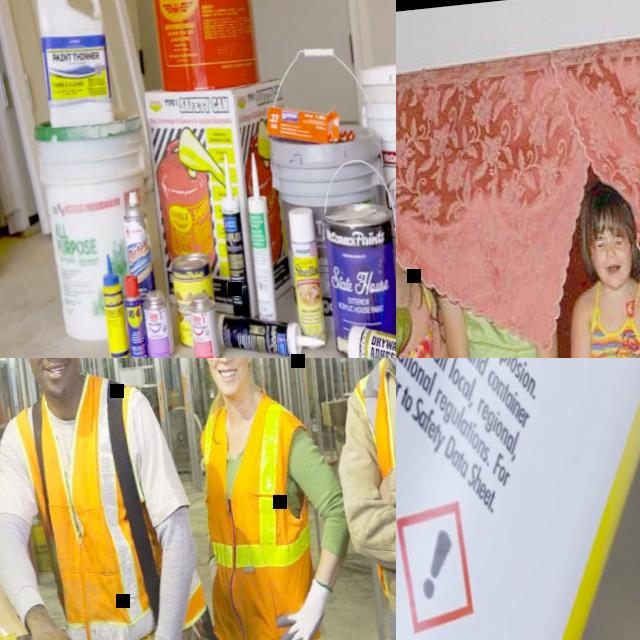NO-Hardhat: (578, 186, 630, 238)
NO-Mask: (30, 358, 79, 398), (210, 358, 247, 396), (595, 256, 630, 290)
NO-Safety Vest: (454, 294, 545, 358), (580, 282, 640, 358)
Person: (0, 358, 218, 640), (169, 358, 371, 640), (486, 178, 640, 358), (305, 358, 396, 640), (396, 269, 578, 358)
Safety Vest: (4, 363, 215, 640), (182, 388, 335, 640), (344, 358, 396, 640)
